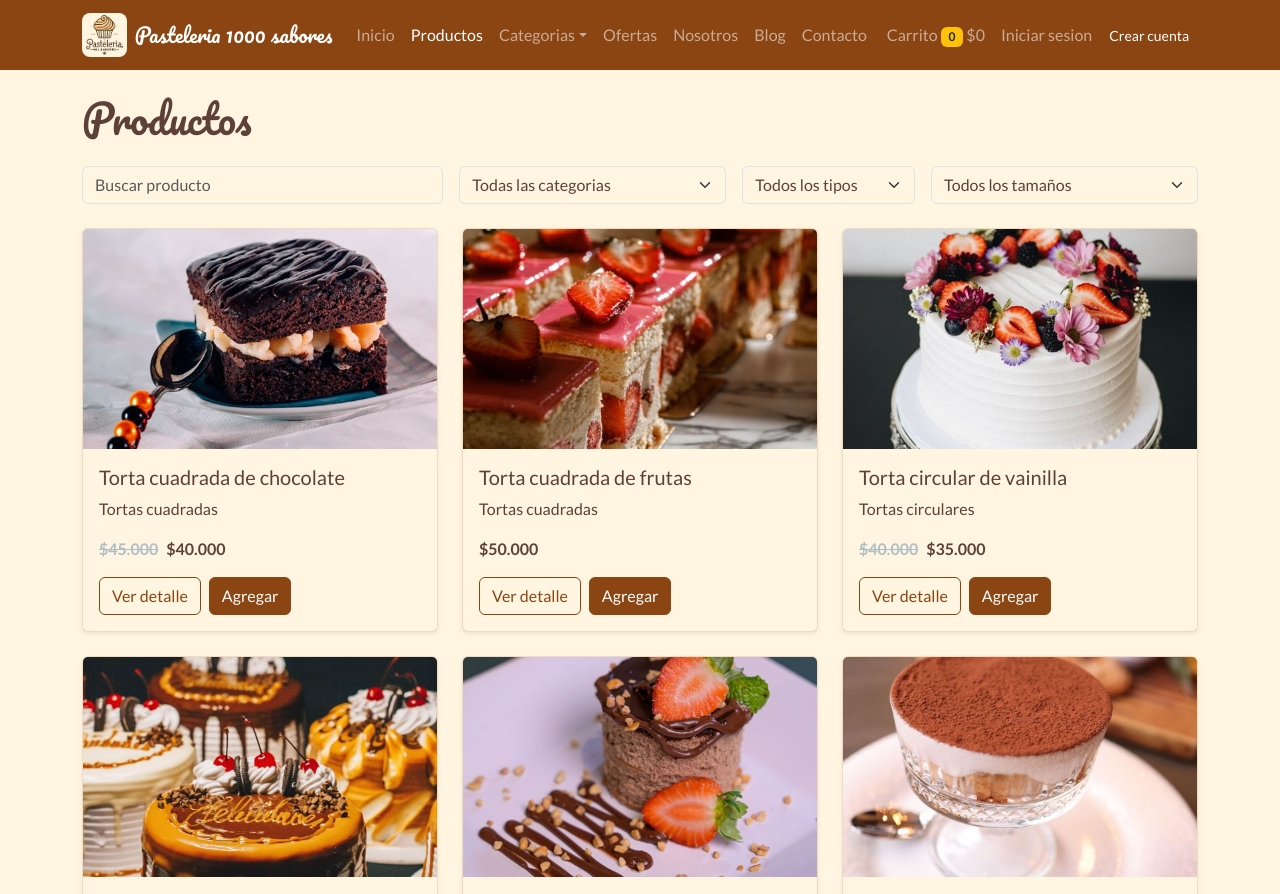
App › agregar un producto actualiza el contador del carrito
Step 1. Click the button "Agregar" below "45.000" → (250, 596), box [209,577,292,615]
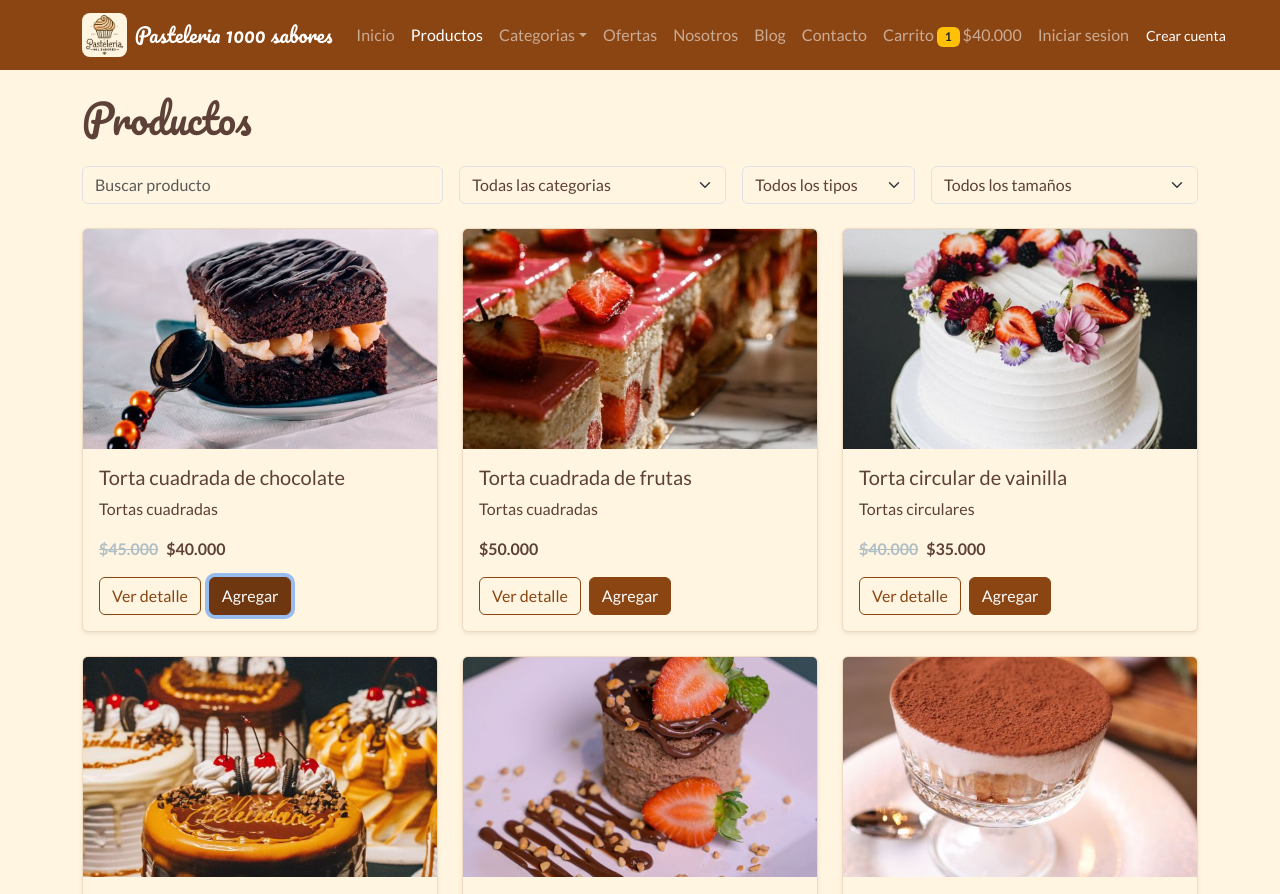
expect the text "1" is shown: met, box [937,27,960,47]
